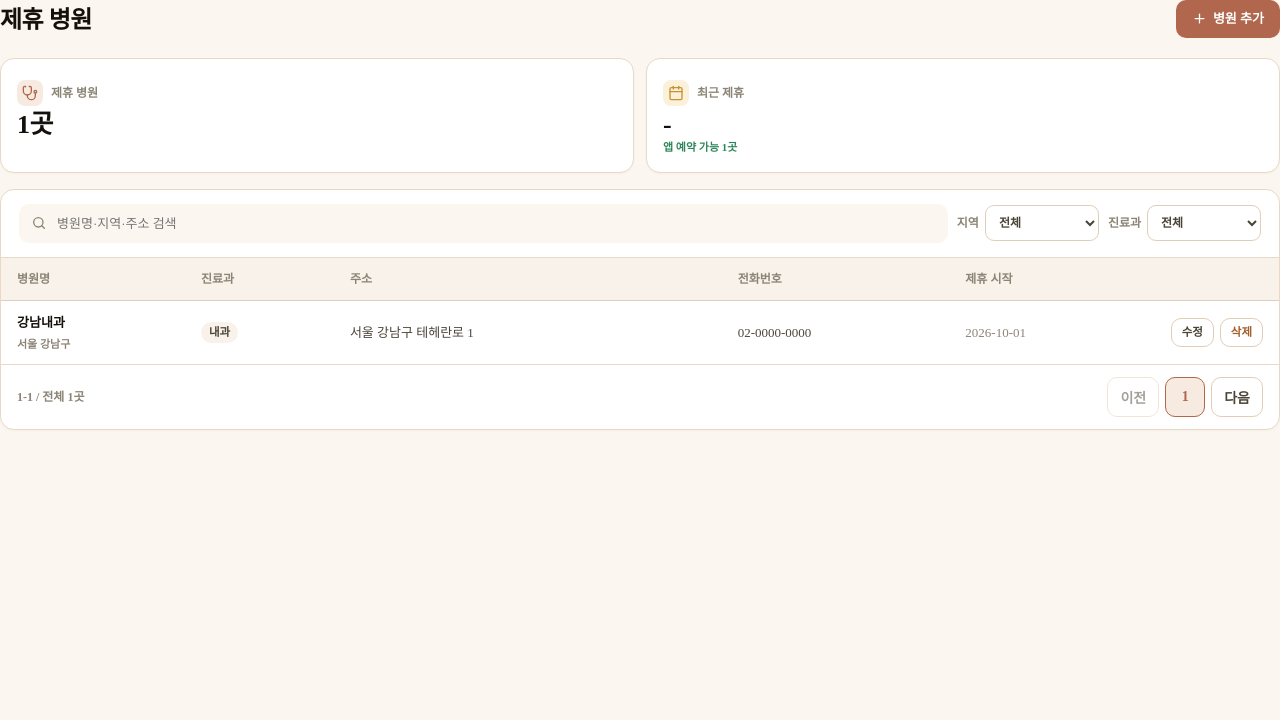
Test: AdminHospitalsContent 입력칸 이름 (Chrome) › 병원 수정 창의 등록된 진료과·새 진료과 입력칸을 이름으로 찾을 수 있다
What coordinates should you click on to do the following:
click the button "수정"
I would click on:
 (1192, 333)
Its box is [1171,318,1214,347].
(page scrolled)
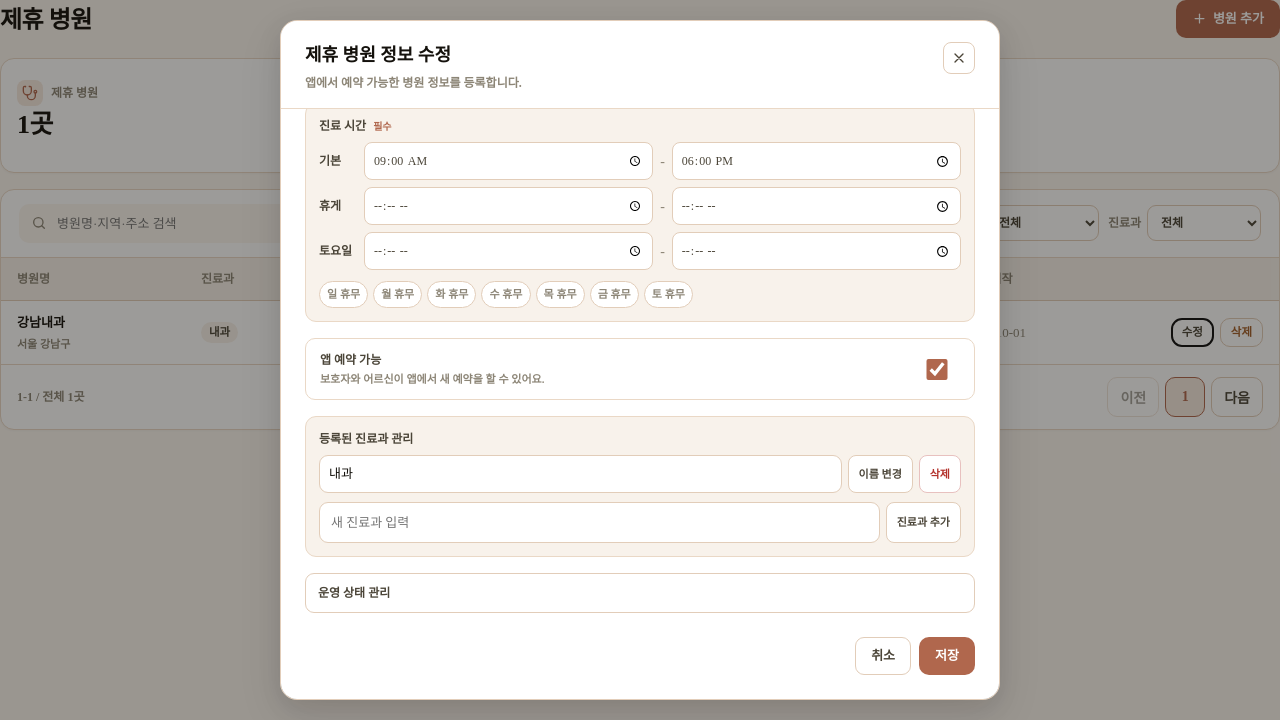
Now the field named "내과 이름" holds "내과", box [319,455,842,493]
Now the field labelled "새 진료과 입력" is shown, box [319,502,880,543]
